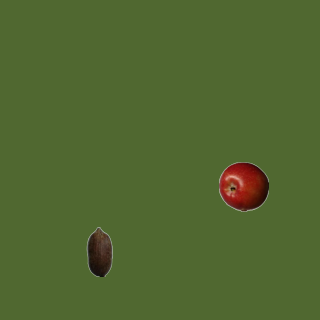Apple Braeburn: (218, 161, 268, 211)
Nut Pecan: (74, 226, 124, 276)
